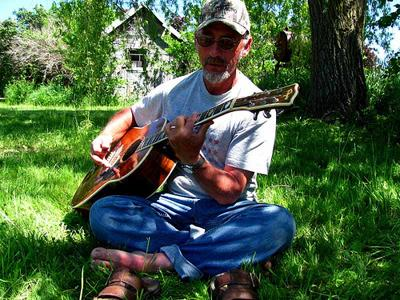person: (90, 2, 296, 279)
